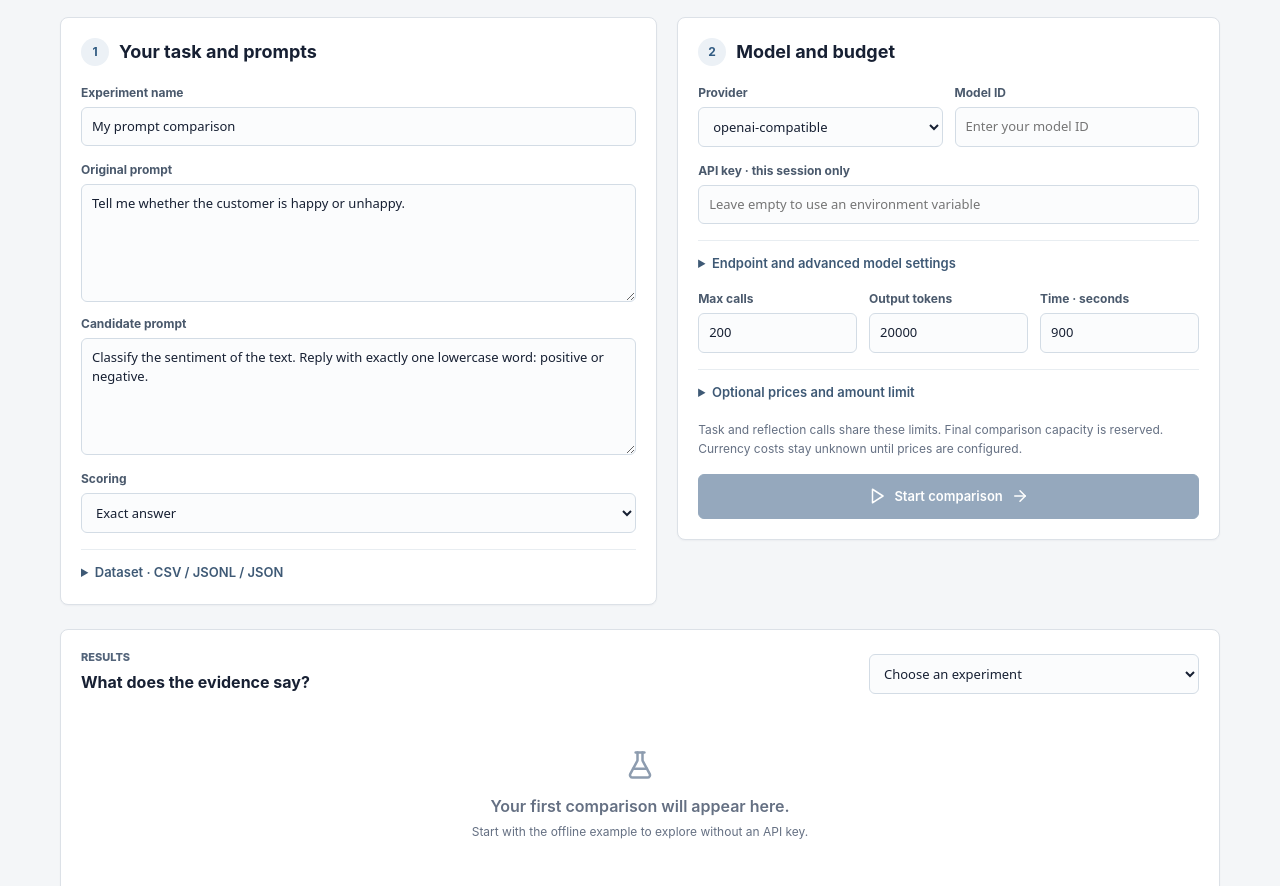
experiment workspace › does not offer failure export while an experiment is queued
(page scrolled)
Select "Synthetic comparison · queued" in the dropdown named "Select experiment" at (1034, 674), box [869,654,1199,694]
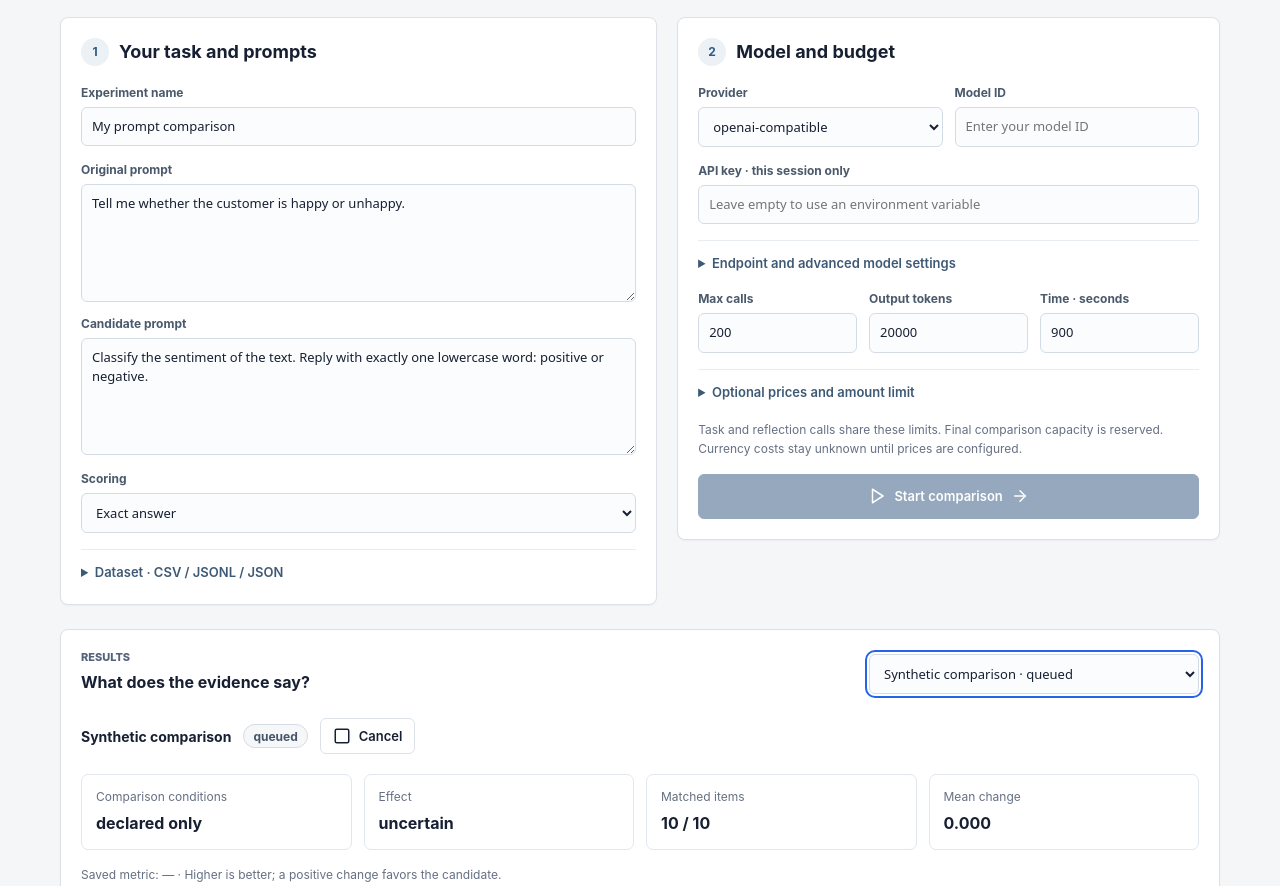
Check: the button "Cancel" is shown, box [320,718,416,754]
